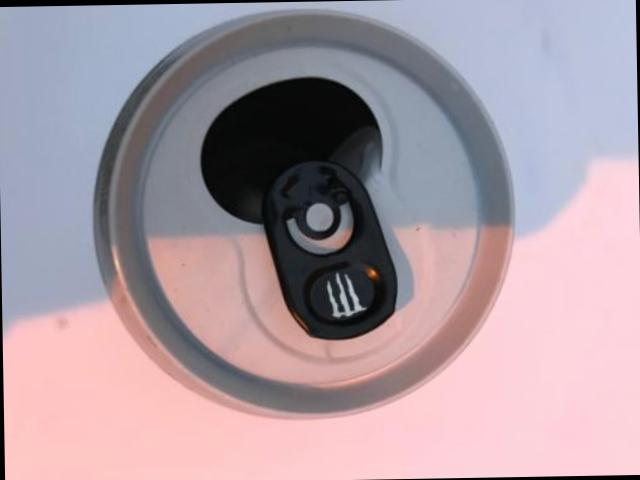metal: (95, 12, 514, 418)
